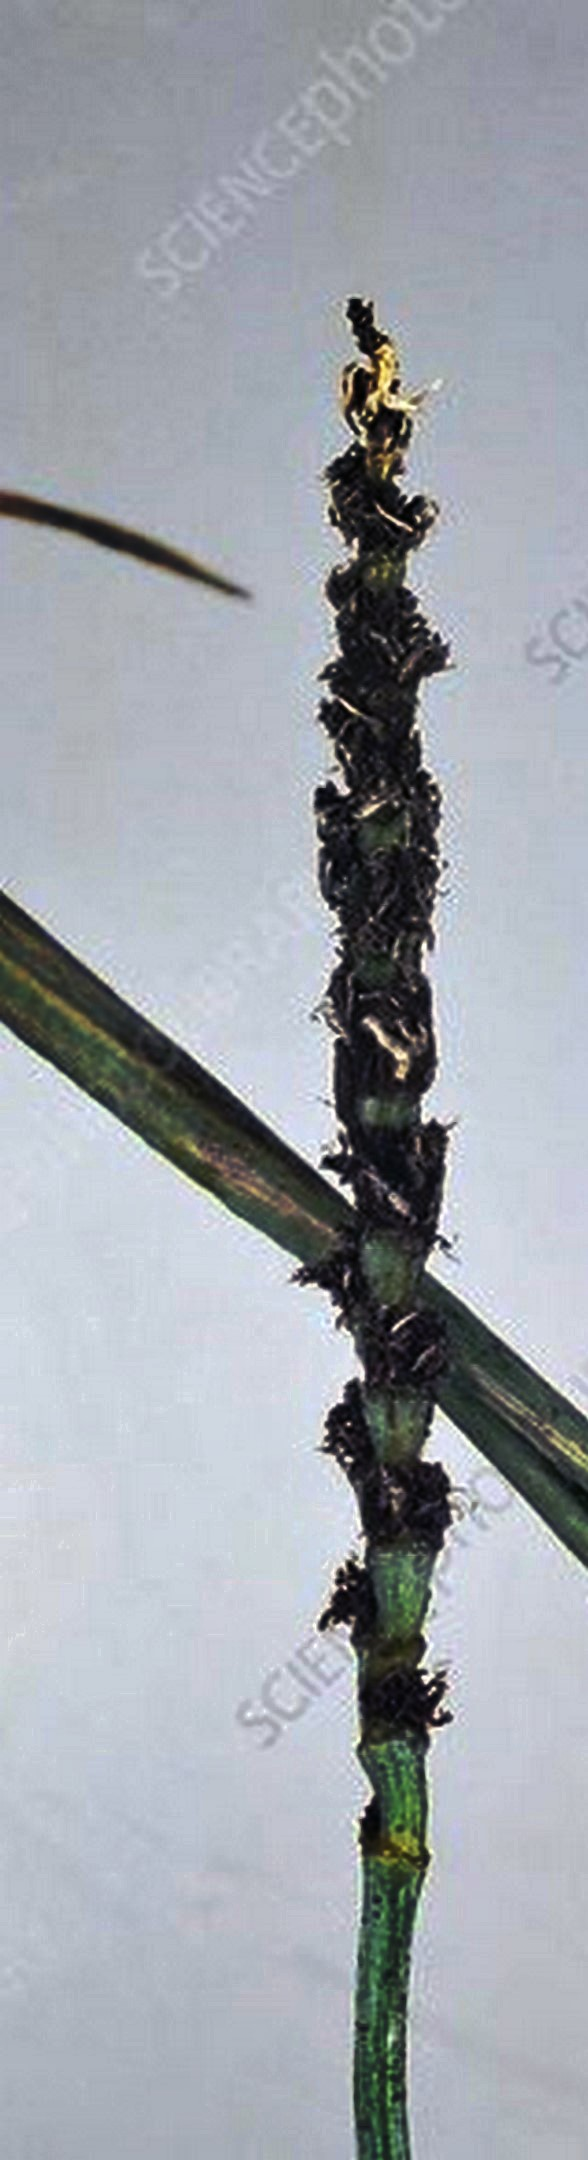Wheat Loose Smut: (260, 342, 483, 1626)
